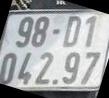-: (52, 28, 61, 36)
.: (51, 78, 59, 85)
0: (1, 53, 17, 82)
1: (85, 17, 97, 48)
2: (34, 52, 54, 83)
4: (19, 51, 32, 84)
7: (82, 51, 100, 82)
8: (33, 17, 50, 48)
9: (16, 16, 33, 48), (63, 53, 80, 84)
D: (63, 15, 82, 48)
